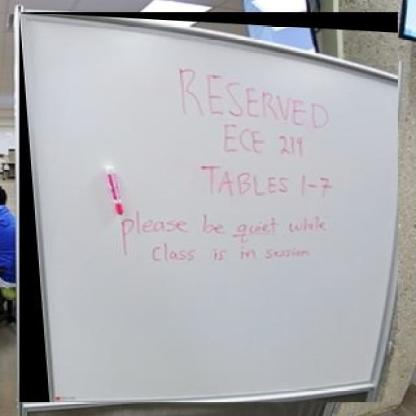Handwritten text: (170, 66, 342, 140), (109, 202, 340, 247), (144, 243, 318, 274), (198, 161, 295, 199), (211, 121, 273, 161)
Whiteboard: (13, 9, 400, 412)
